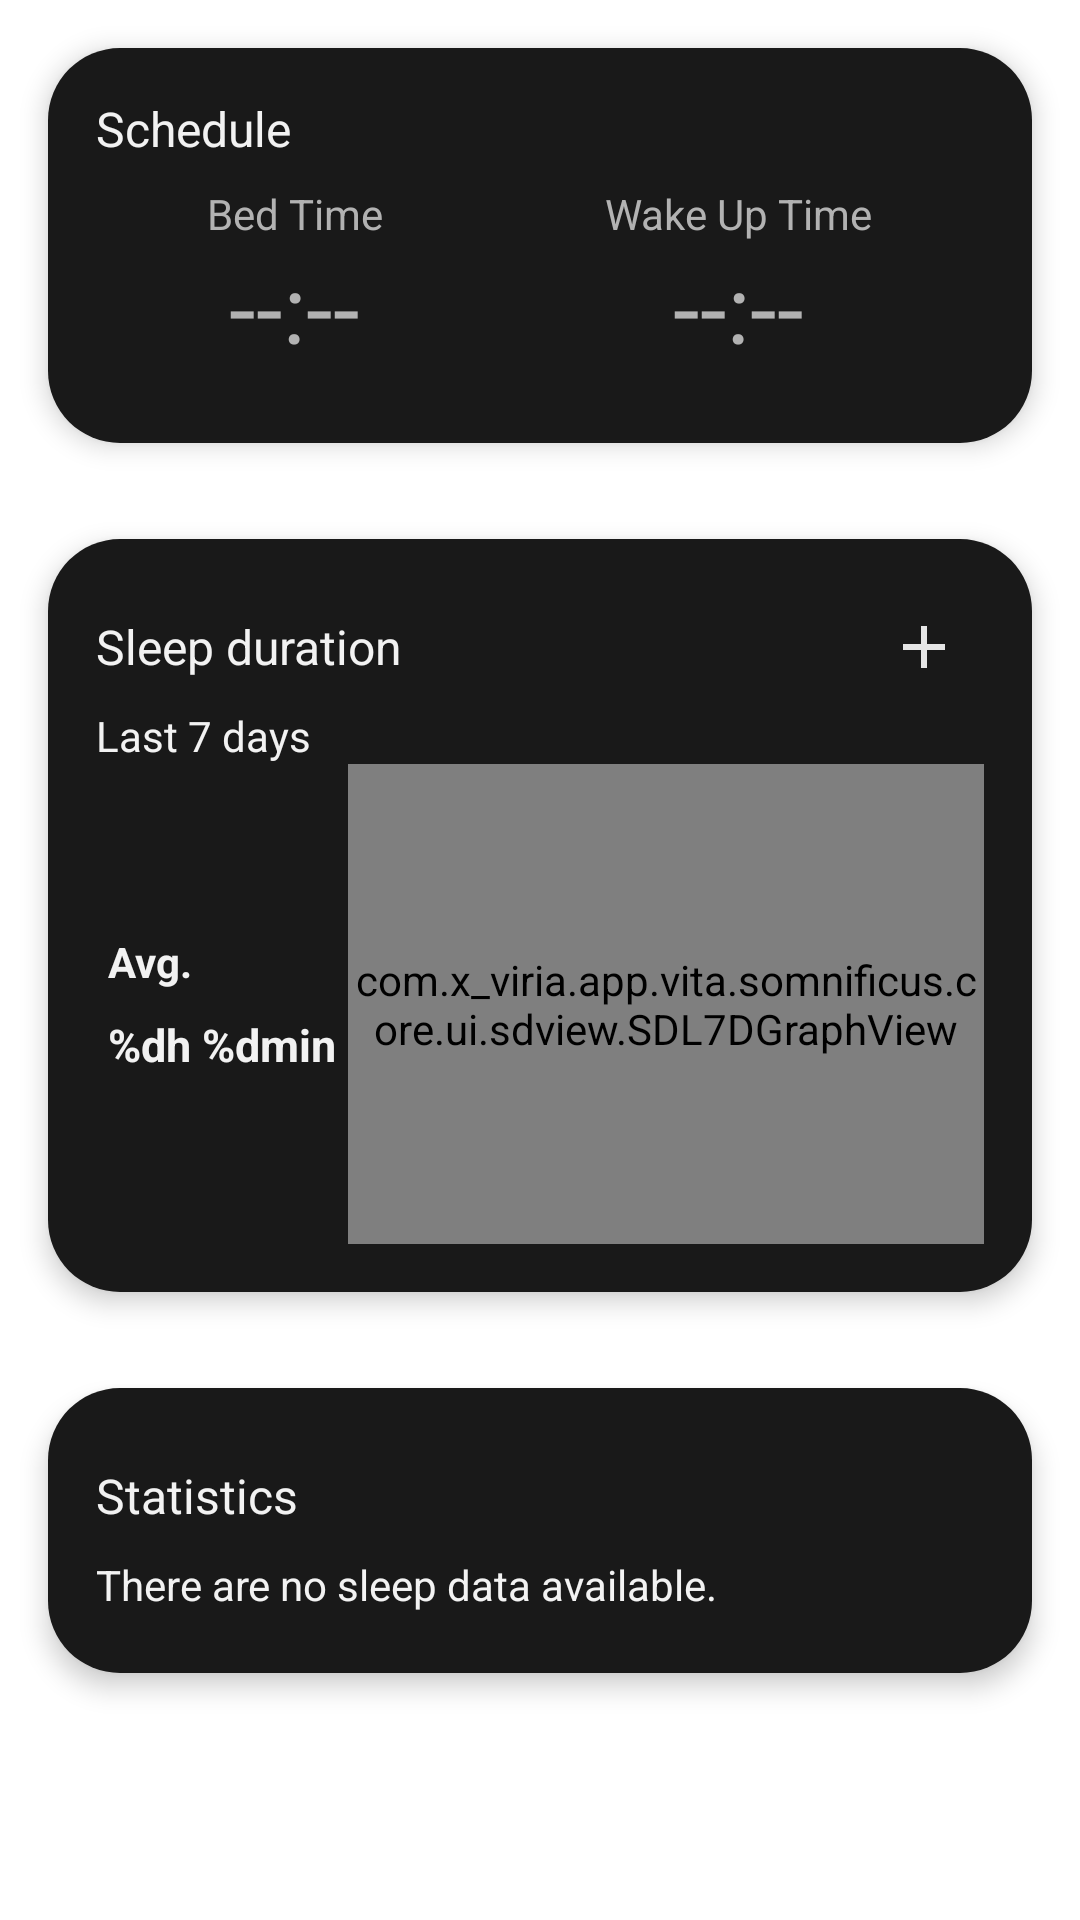

Point at icon controls on the screen. Image size 1080x1920, points as (x,y).
add: (924,647)
